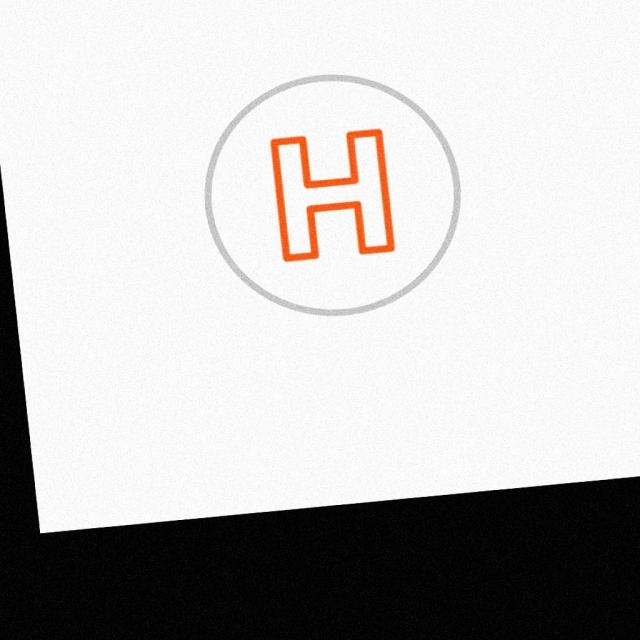helipad: (195, 65, 462, 323)
